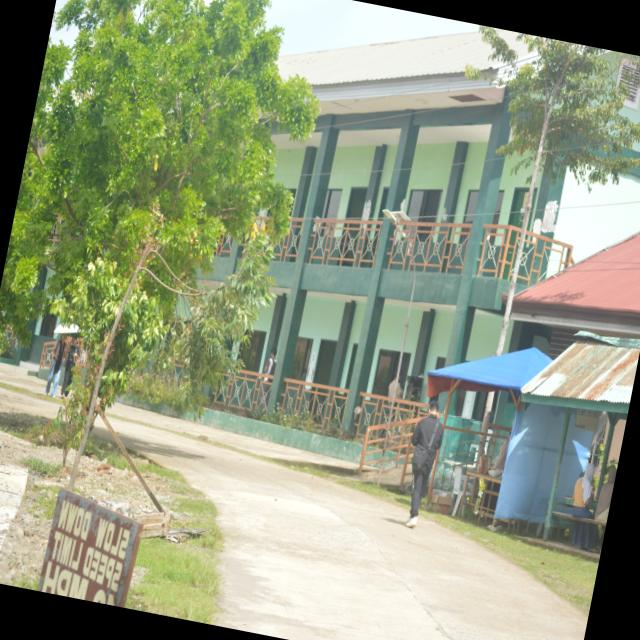person: (405, 401, 442, 527), (45, 334, 65, 397), (572, 463, 594, 519), (61, 335, 78, 396), (258, 377, 270, 411)
